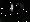person: (18, 5, 25, 15), (9, 3, 15, 14)
